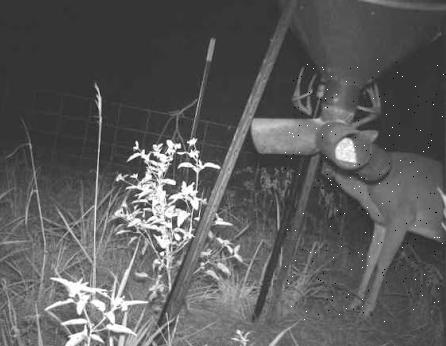Deer: (283, 59, 446, 323)
